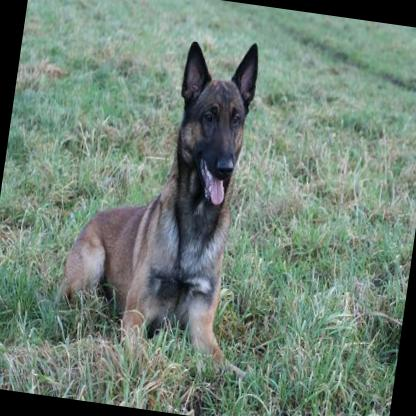malinois: (49, 19, 288, 376)
